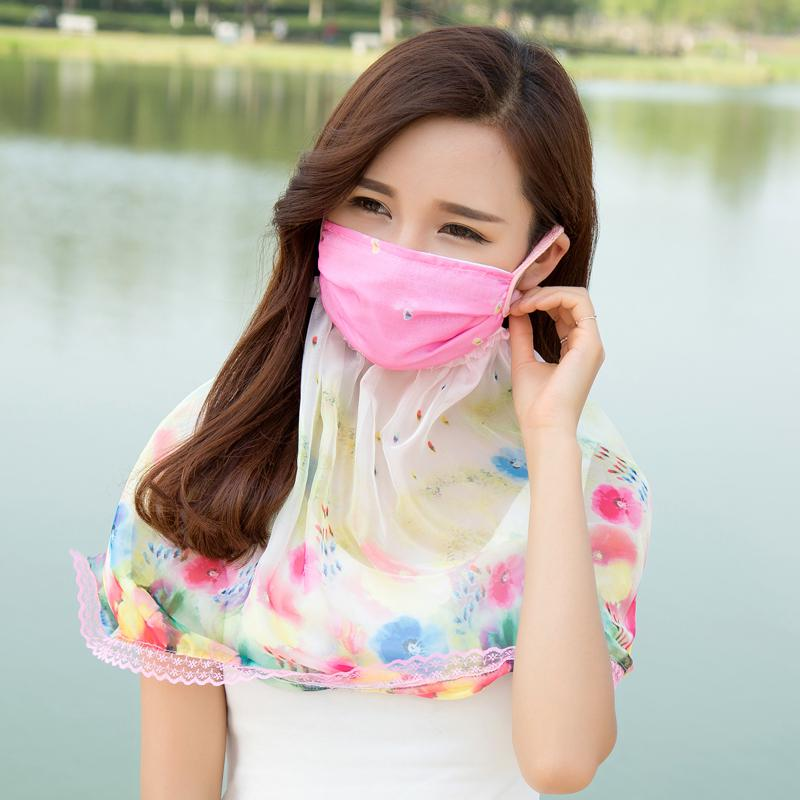OK: (327, 167, 528, 368)
